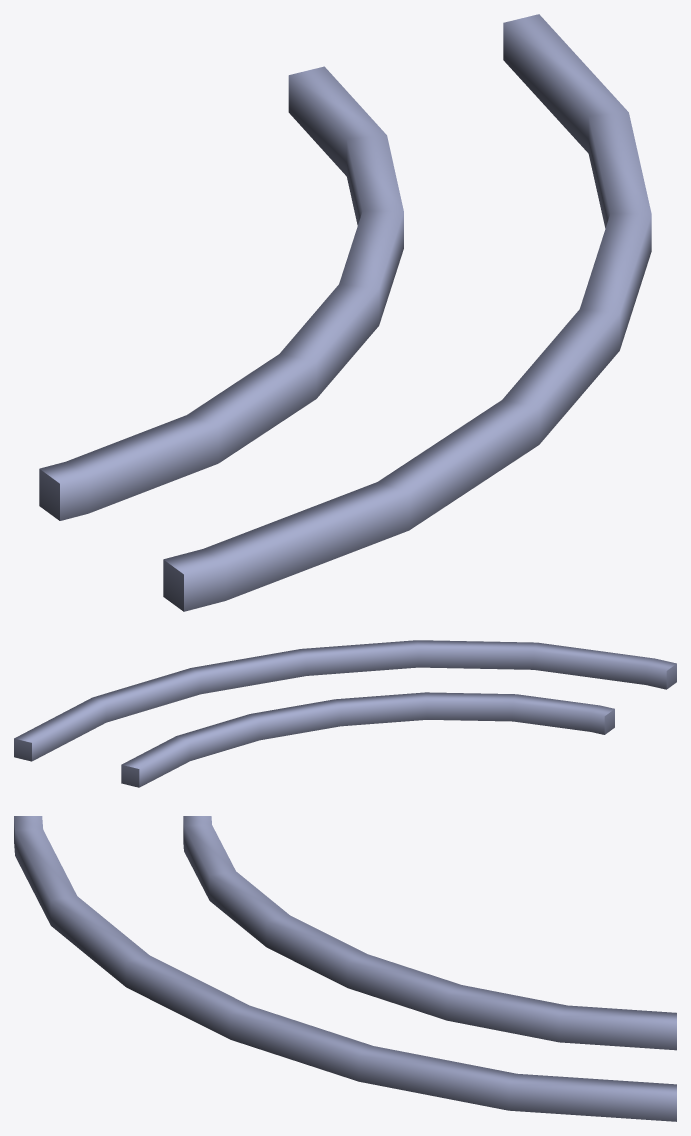
The model's file is railroad-rail-corner-small.glb.
3 renders of one model, top to bottom at view 1: azimuth 30°, elevation 25°; view 2: azimuth 150°, elevation 25°; view 3: azimuth 270°, elevation 25°, orthographic. The views are drawn at different scales.
Visible parts, largest first — view 1: railroad-rail-corner-small; view 2: railroad-rail-corner-small; view 3: railroad-rail-corner-small.
Part boxes in pixels (x1=…): railroad-rail-corner-small: x1=39, y1=14, x2=651, y2=611; railroad-rail-corner-small: x1=14, y1=640, x2=676, y2=787; railroad-rail-corner-small: x1=14, y1=816, x2=676, y2=1121.
Size of the model in its own units: 2.35 by 0.1 by 2.35.
